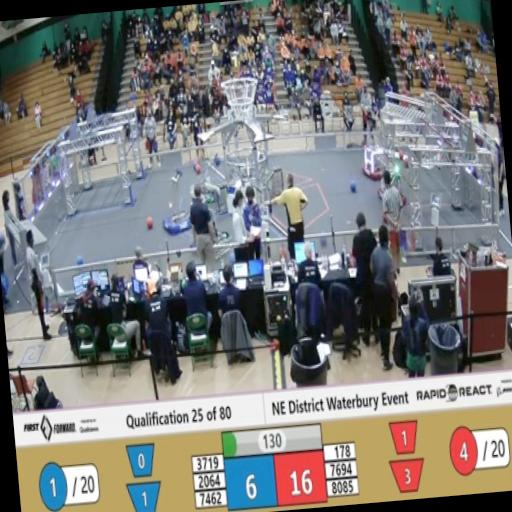robot: (156, 161, 198, 239), (184, 198, 234, 260), (186, 149, 225, 208), (359, 132, 393, 182), (378, 162, 408, 216)
